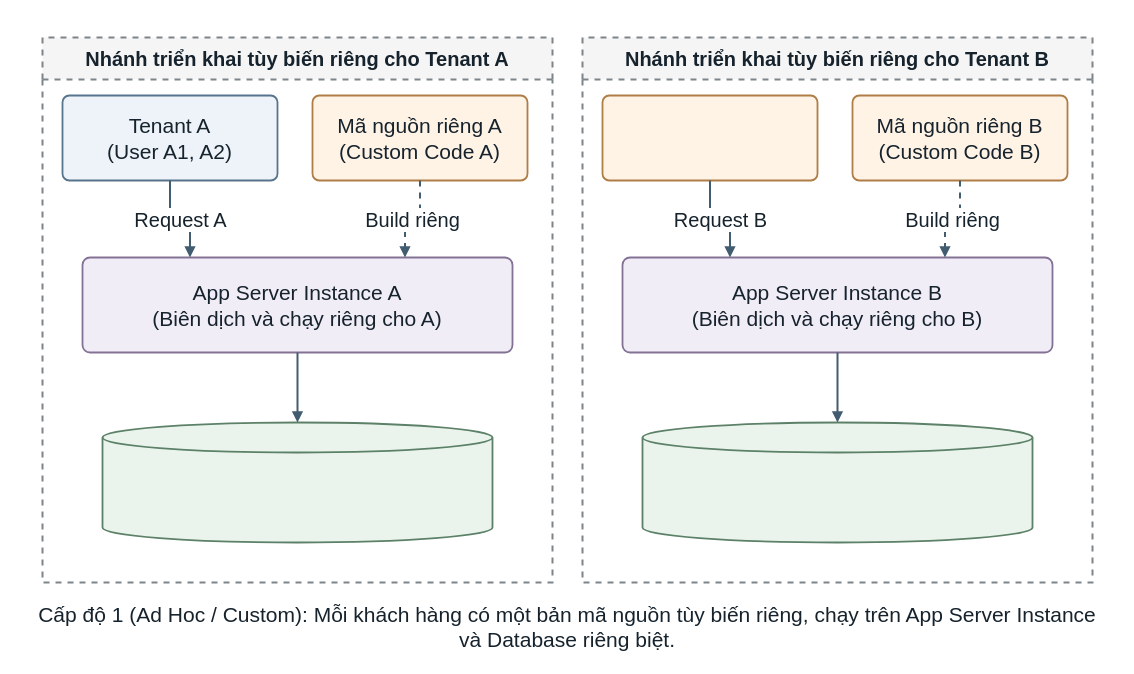
Some shapes in this 1134 by 674 pixel diagram are drawn without their labels. Each missing label, with the box of its shape:
Database Server / Database A (Dữ liệu dành riêng cho A): (101, 421, 493, 543)
Database Server / Database B (Dữ liệu dành riêng cho B): (641, 421, 1033, 543)
Tenant B (User B1, B2): (601, 94, 818, 181)
